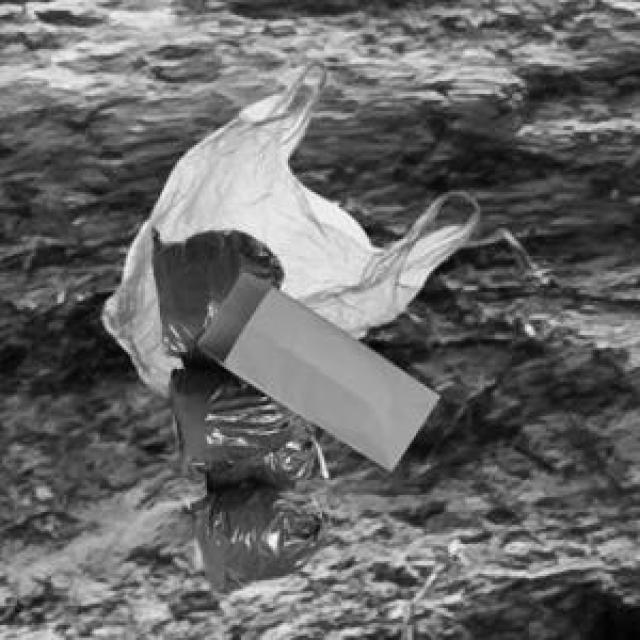miscellaneous trash: (149, 224, 324, 593)
paper: (194, 269, 435, 467)
